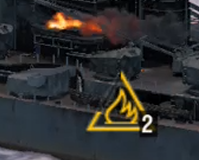2fire: (85, 96, 156, 137)
